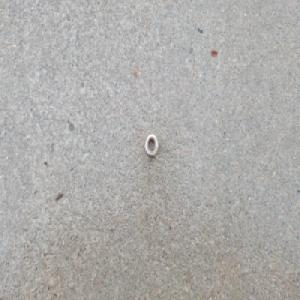Nut: (144, 131, 159, 158)
